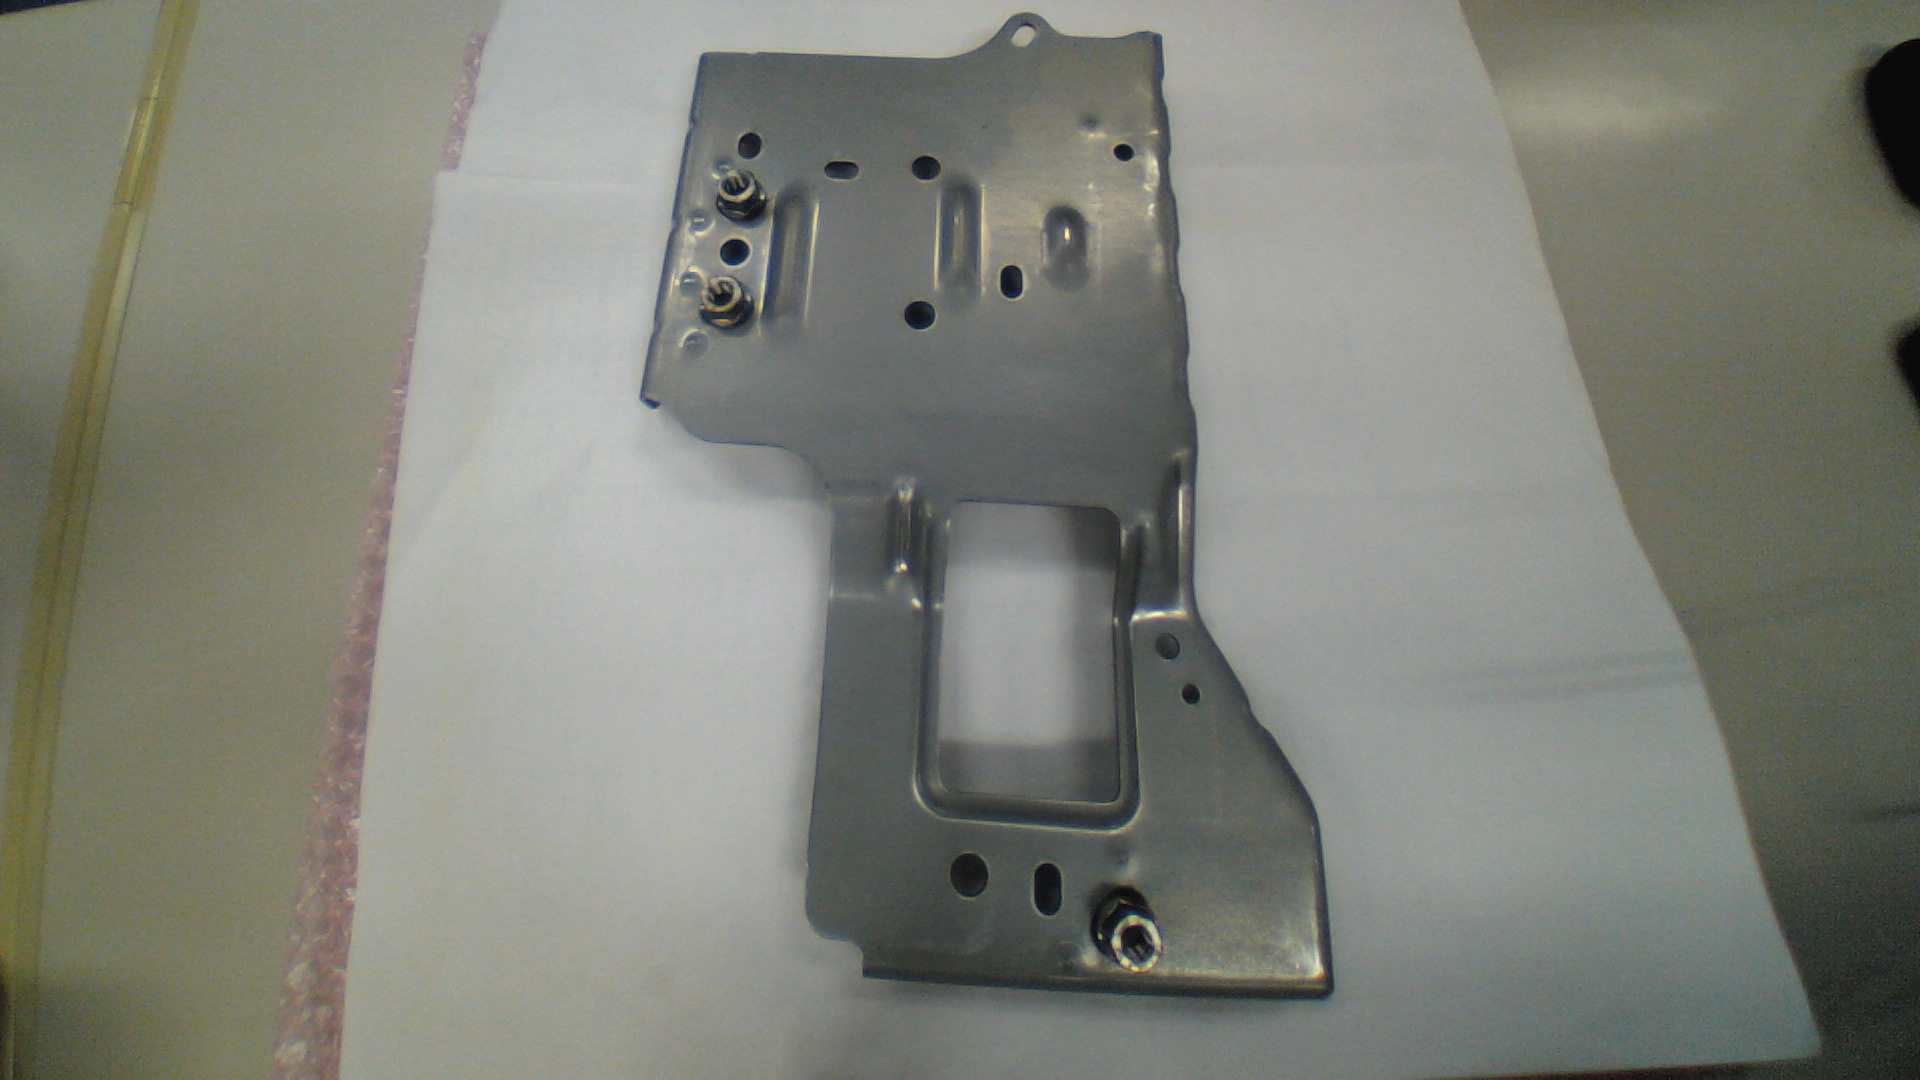dog: (1091, 887, 1154, 964), (698, 274, 754, 335), (713, 170, 765, 218)
